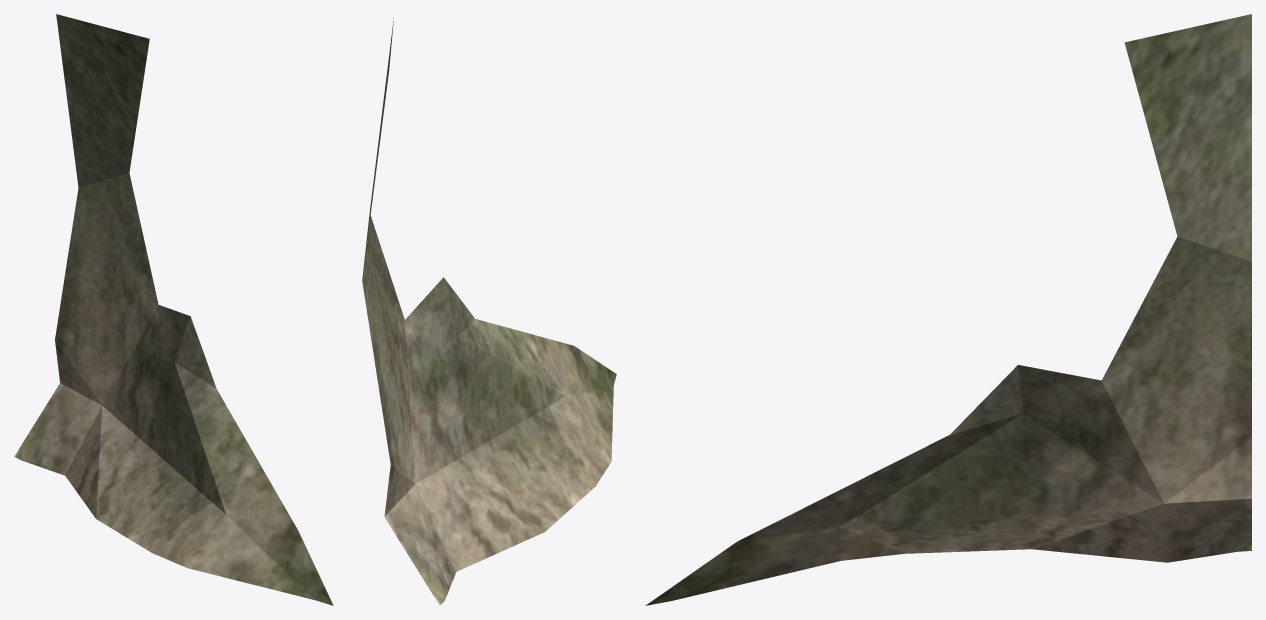
3 views of the same model, side by side, from view 1: azimuth 30°, elevation 25°; view 2: azimuth 150°, elevation 25°; view 3: azimuth 270°, elevation 25° (orthographic). The views are drawn at different scales.
Bounding box in the file's own units: 1.27 × 5.9 × 5.76.
Materials: 1 (1 with a texture image).
